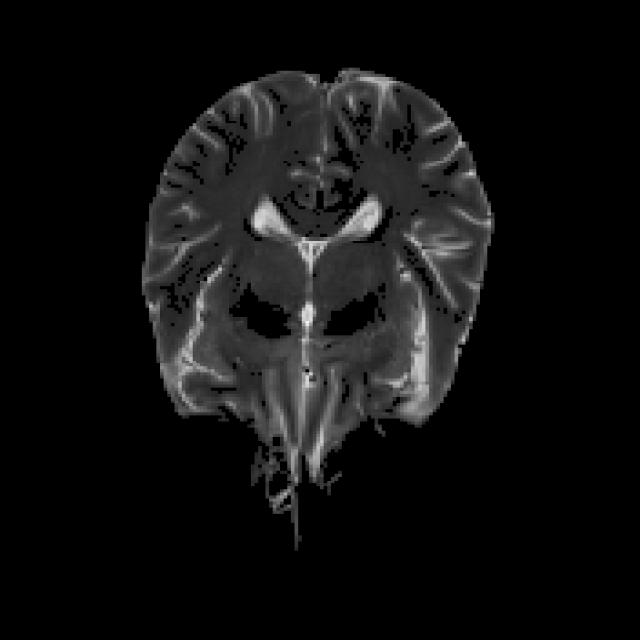parkinson: (138, 65, 495, 548)
